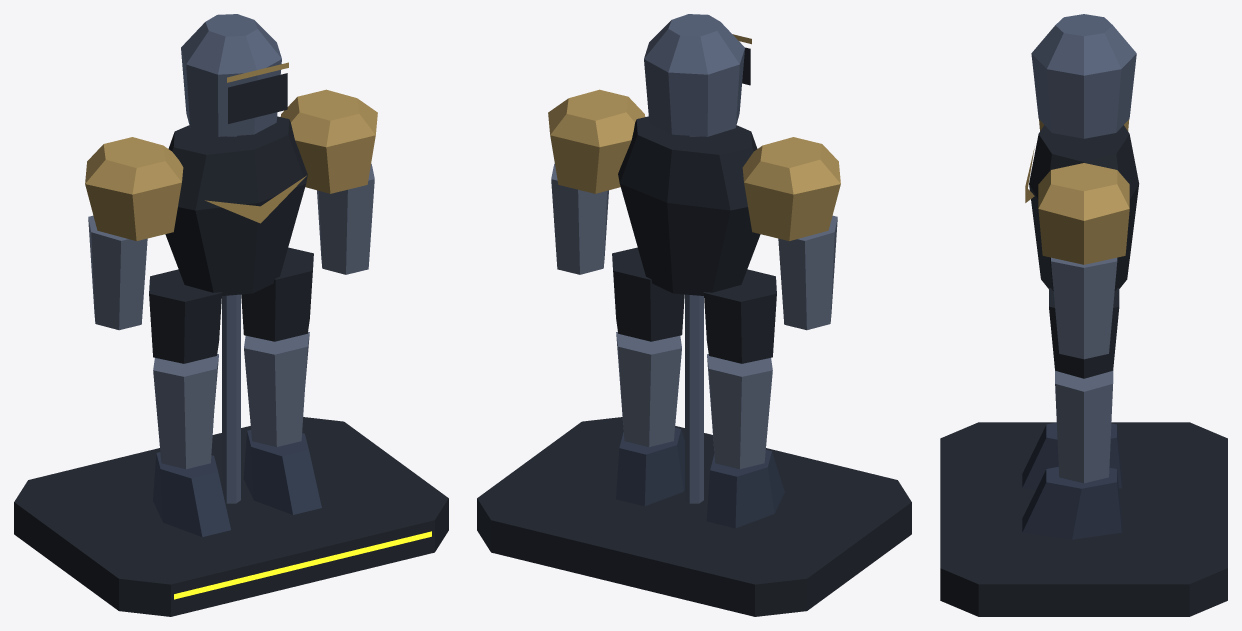
File: res_armor_display_stand.glb
The picture shows the model from 3 angles, left to right: view 1: azimuth 30°, elevation 25°; view 2: azimuth 150°, elevation 25°; view 3: azimuth 270°, elevation 25°; orthographic projection.
Parts seen in each view (by area): view 1: display_plinth, shin_guard, chest_chevron, mannequin_spine, parade_boot, plinth_amber; view 2: display_plinth, shin_guard, chest_chevron, mannequin_spine, parade_boot; view 3: display_plinth, shin_guard, mannequin_spine, chest_chevron, parade_boot.
Part boxes in pixels (left/top/right/bottom): display_plinth: left=14, top=73, right=448, bottom=616; shin_guard: left=88, top=163, right=374, bottom=469; chest_chevron: left=85, top=62, right=377, bottom=241; mannequin_spine: left=181, top=14, right=281, bottom=503; parade_boot: left=153, top=430, right=321, bottom=536; plinth_amber: left=174, top=531, right=431, bottom=599; display_plinth: left=477, top=47, right=911, bottom=616; shin_guard: left=551, top=163, right=837, bottom=469; chest_chevron: left=548, top=34, right=840, bottom=241; mannequin_spine: left=644, top=14, right=744, bottom=503; parade_boot: left=616, top=427, right=784, bottom=528; display_plinth: left=940, top=125, right=1227, bottom=616; shin_guard: left=1051, top=257, right=1117, bottom=483; mannequin_spine: left=1031, top=14, right=1136, bottom=138; chest_chevron: left=1025, top=119, right=1129, bottom=264; parade_boot: left=1022, top=422, right=1121, bottom=539.
Bounding box in the file's own units: 1.6 × 2.35 × 1.2.
